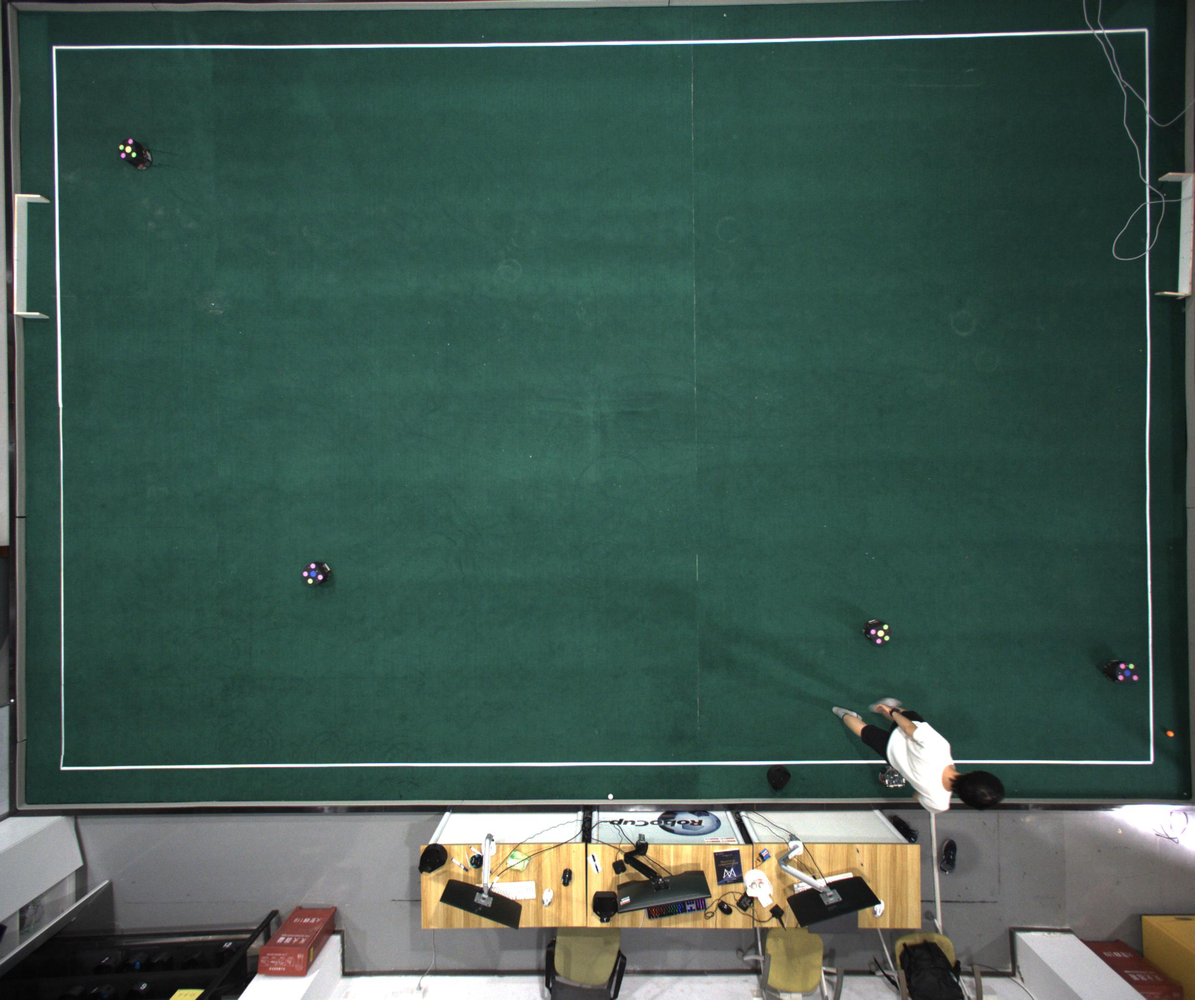ball: (1167, 729, 1174, 737)
blue_bot: (302, 563, 325, 586), (1116, 661, 1140, 683)
yellow_bot: (869, 624, 891, 644), (119, 138, 137, 160)
